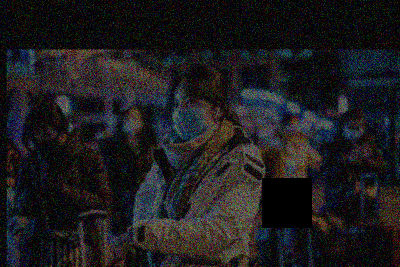with_mask: (170, 92, 210, 140), (29, 129, 62, 155), (119, 111, 143, 134), (341, 122, 365, 144)
